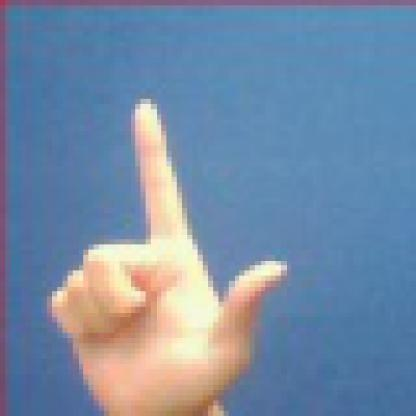seven: (21, 78, 307, 411)
